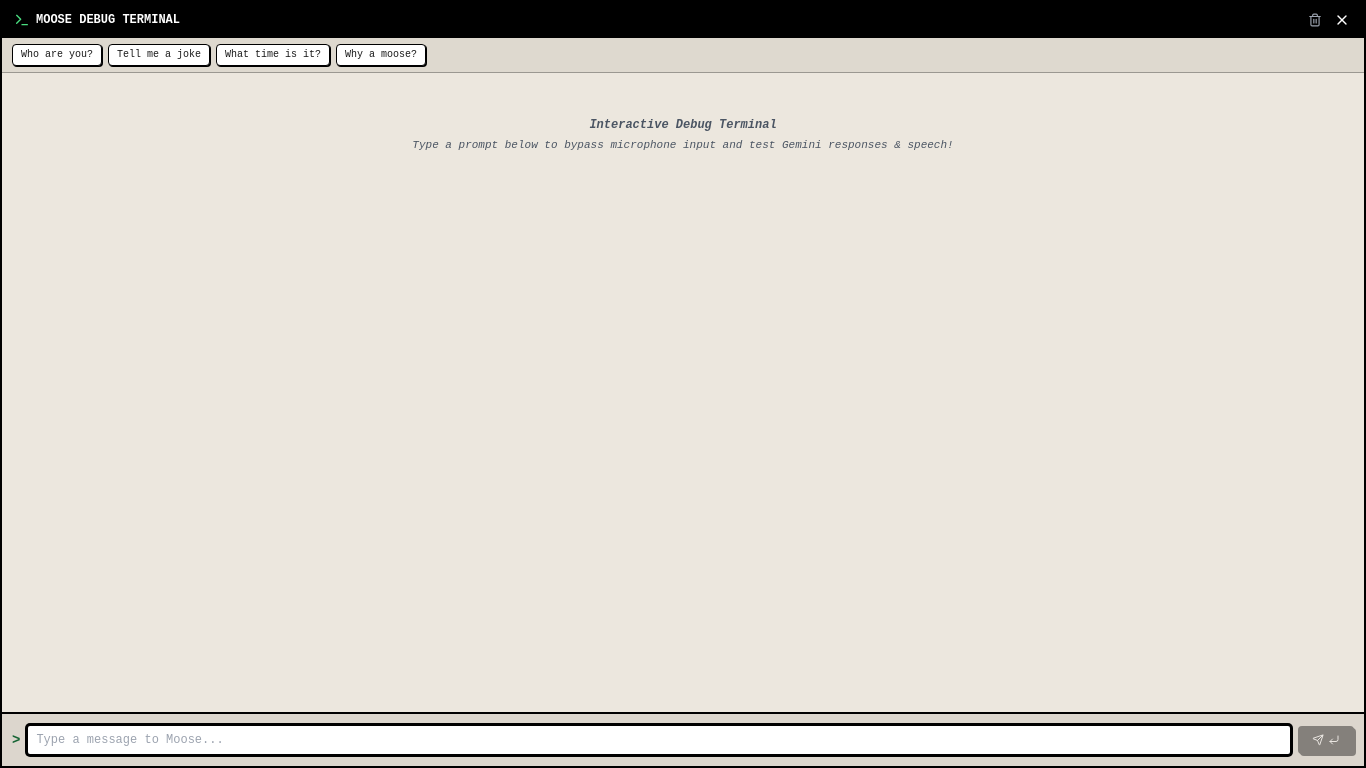
Test case: modal focus management › traps Transcript focus and restores its invoker
Press Tab
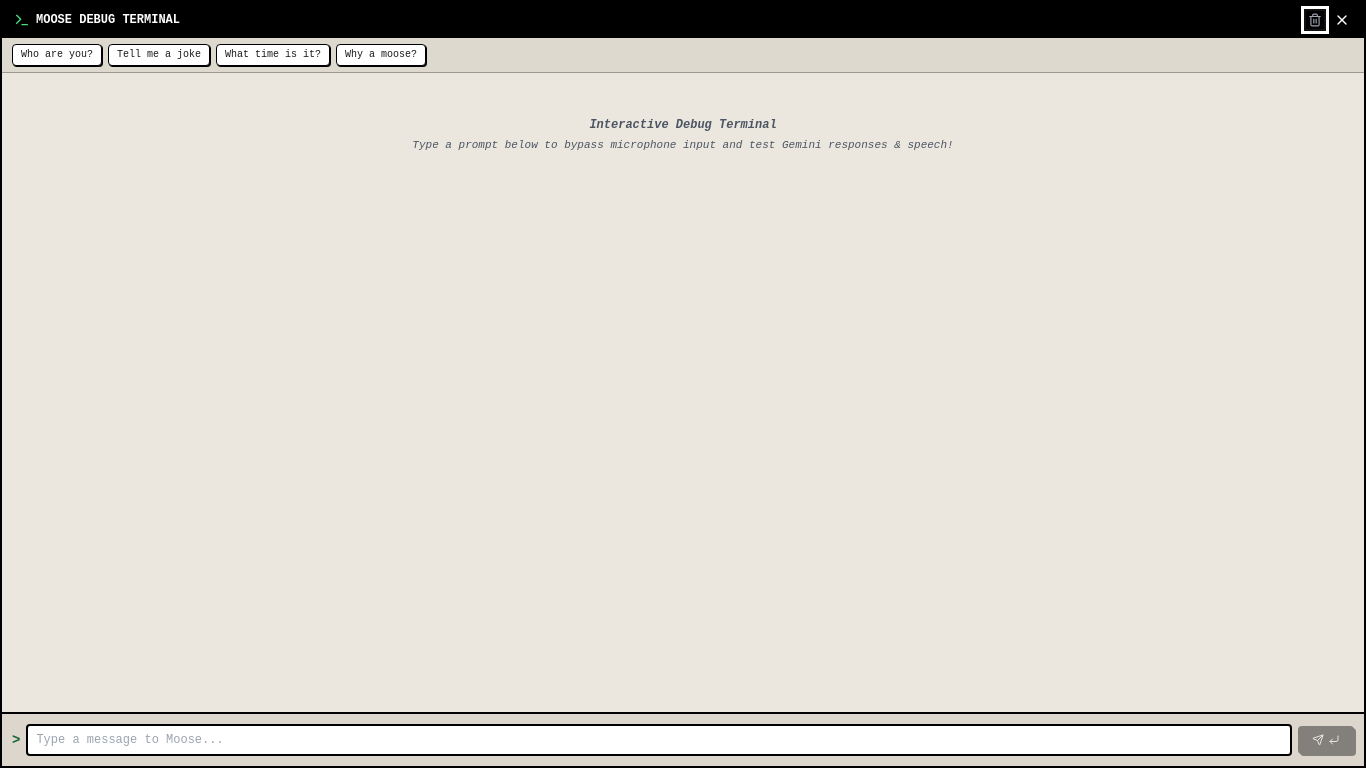
Press Tab
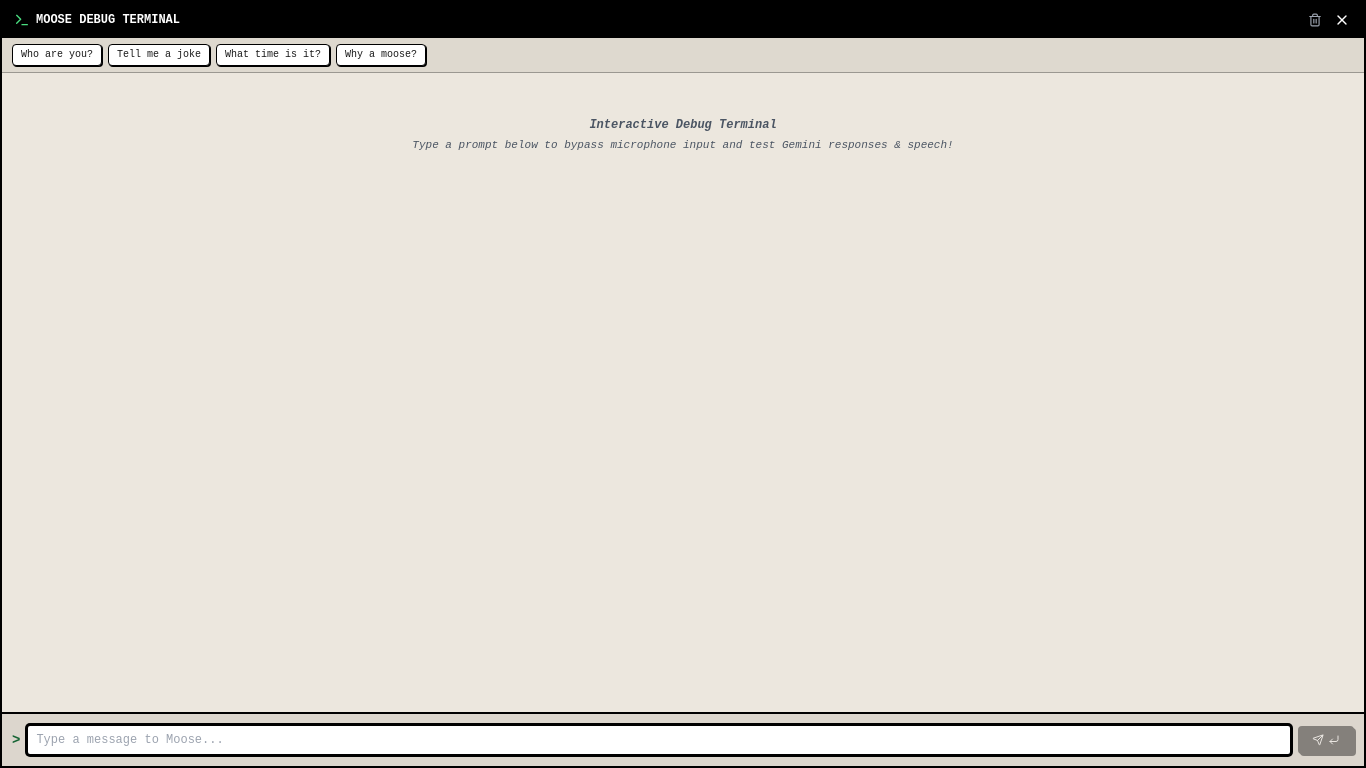
Click the button named "Close transcript terminal" at (1342, 20), box left=1332, top=10, right=1352, bottom=30
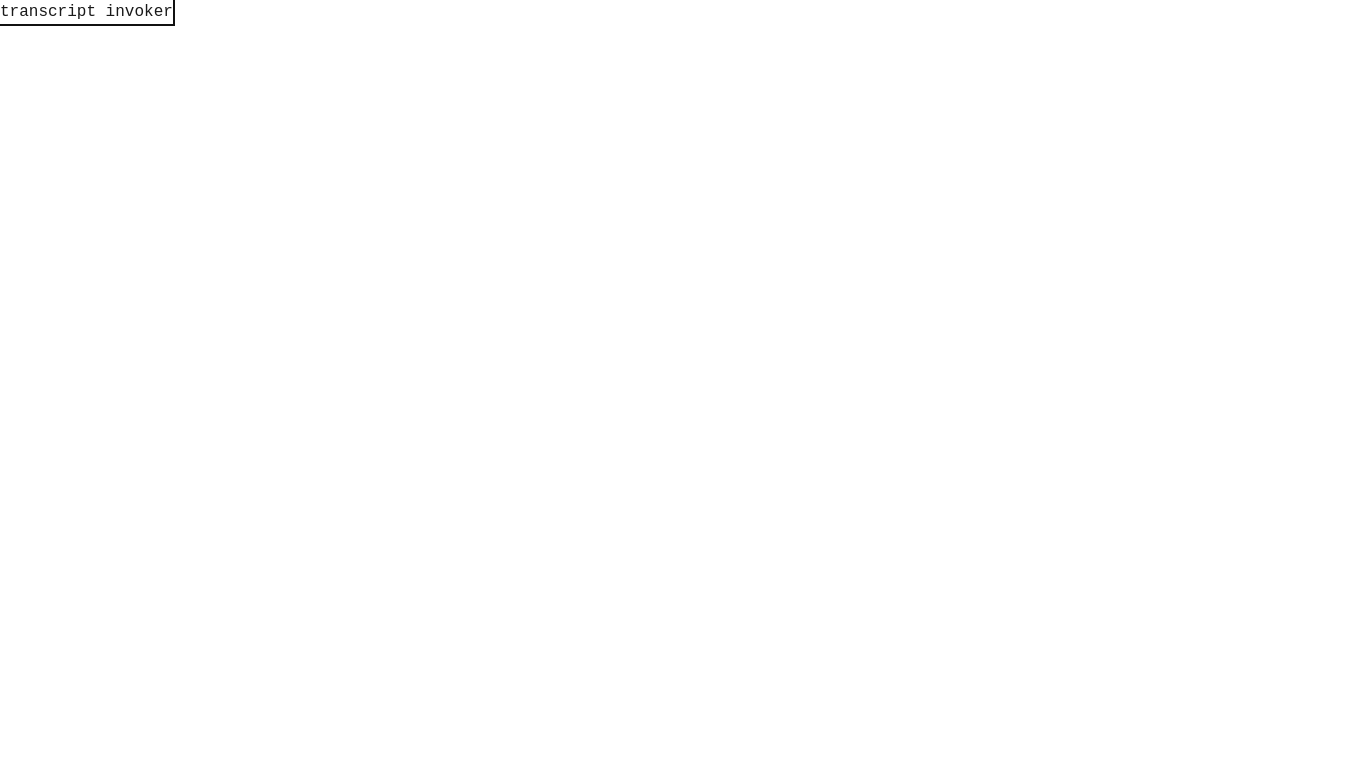
Now the dialog with test id "transcript-drawer" is gone
